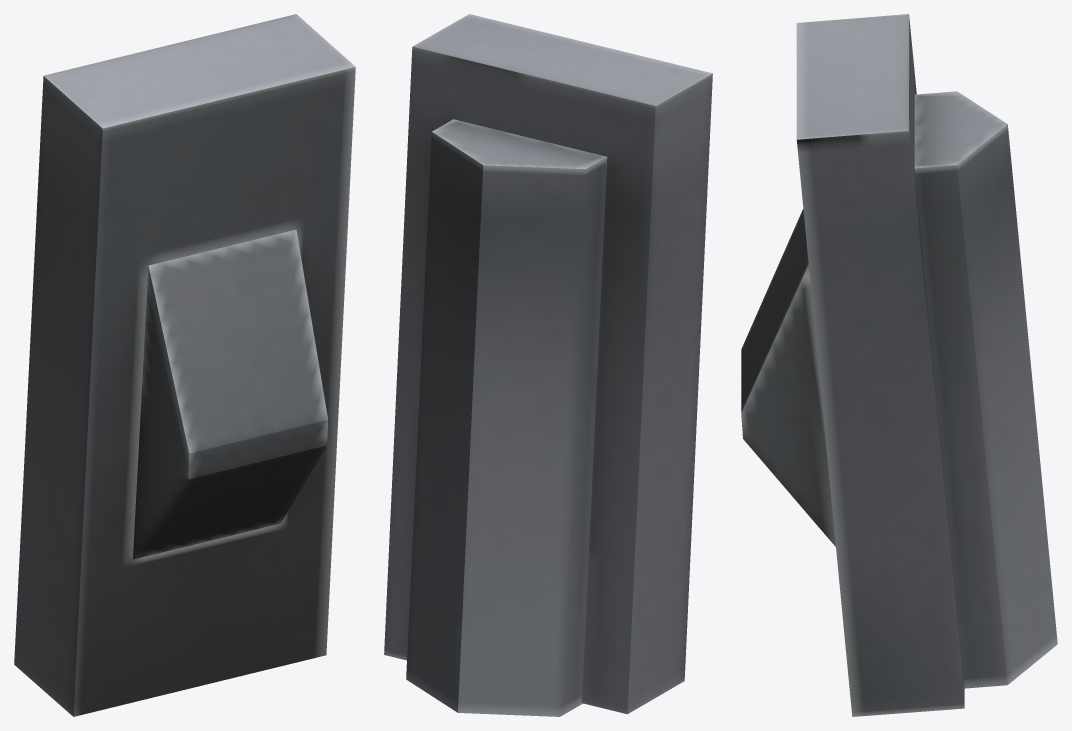
The model's file is l_uglut.dae.
3 renders of one model, left to right at view 1: azimuth 30°, elevation 25°; view 2: azimuth 150°, elevation 25°; view 3: azimuth 270°, elevation 25°, orthographic. The views are drawn at different scales.
Parts seen in each view (by area): view 1: drc_l_uglut; view 2: drc_l_uglut; view 3: drc_l_uglut.
Boxes of the visible parts, x1,y1,x2,y2 form: drc_l_uglut: (14,14,355,716); drc_l_uglut: (384,14,712,716); drc_l_uglut: (741,14,1057,716).
Bounding box in the file's own units: 0.0453 × 0.0519 × 0.1062.
Materials: 1 (1 with a texture image).
